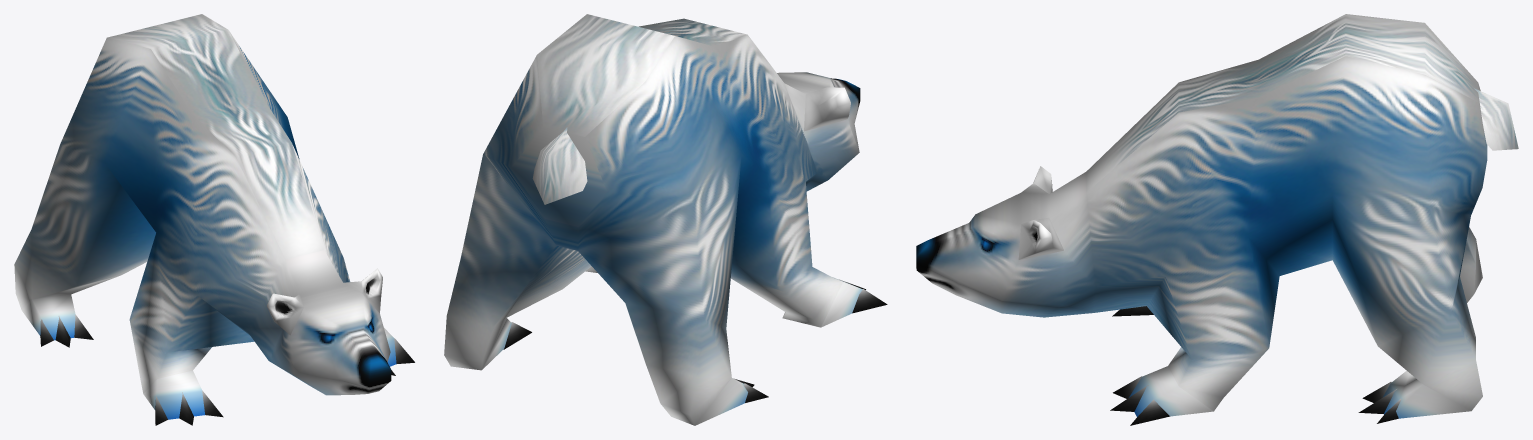
File: Personage_Bear2.FBX
The picture shows the model from 3 angles, left to right: view 1: azimuth 30°, elevation 25°; view 2: azimuth 150°, elevation 25°; view 3: azimuth 270°, elevation 25°; orthographic projection. The views are drawn at different scales.
Parts seen in each view (by area): view 1: Bear; view 2: Bear; view 3: Bear.
Part boxes in pixels (x1,y1,x2,y2): Bear: [14, 14, 414, 425]; Bear: [444, 14, 887, 425]; Bear: [916, 14, 1518, 425].
Bounding box in the file's own units: 57.16 × 58.74 × 100.
